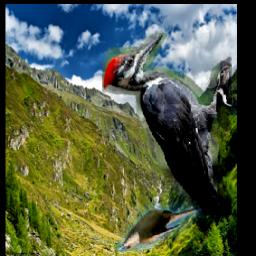Cuckoo: (116, 201, 212, 251)
Woodpecker: (103, 33, 232, 215)
